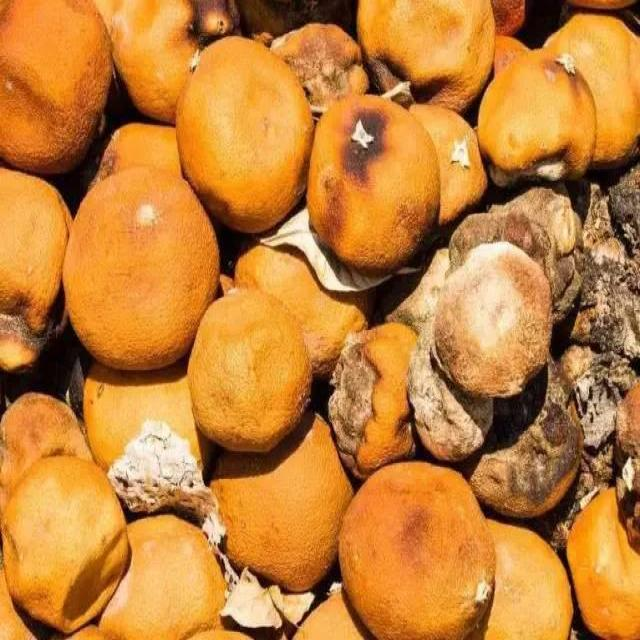Wet Waste: (1, 2, 639, 638)
